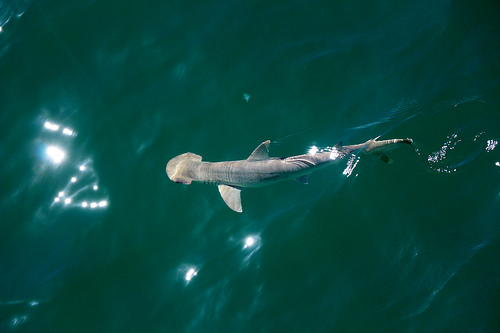shark: (145, 112, 430, 218)
